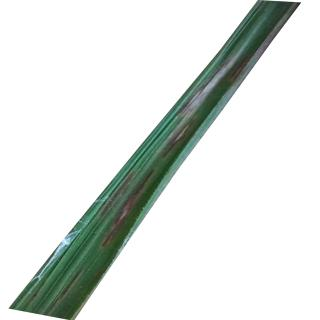Hawar-Daun: (93, 165, 165, 252), (153, 118, 201, 162), (174, 79, 215, 115), (222, 49, 259, 86)
